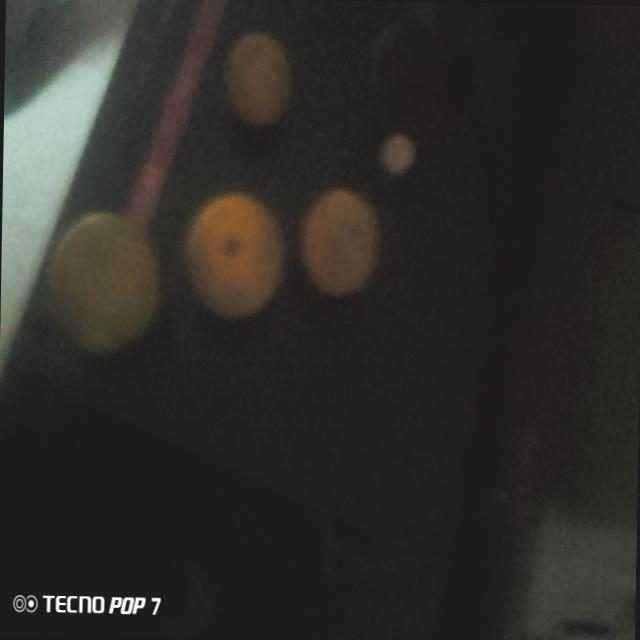Ripe orange: (54, 218, 164, 348), (182, 187, 282, 318), (219, 31, 295, 125), (308, 191, 376, 294)
